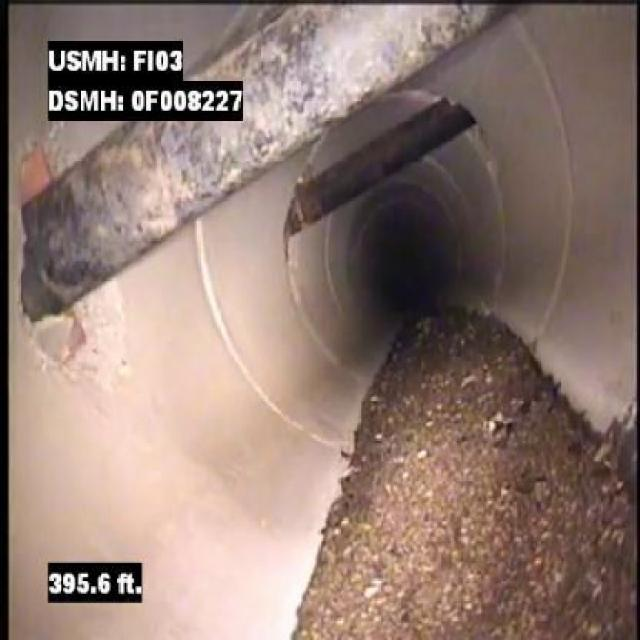Debris: (296, 405, 638, 617)
Utility intrusion: (10, 120, 262, 340), (279, 0, 543, 157)
